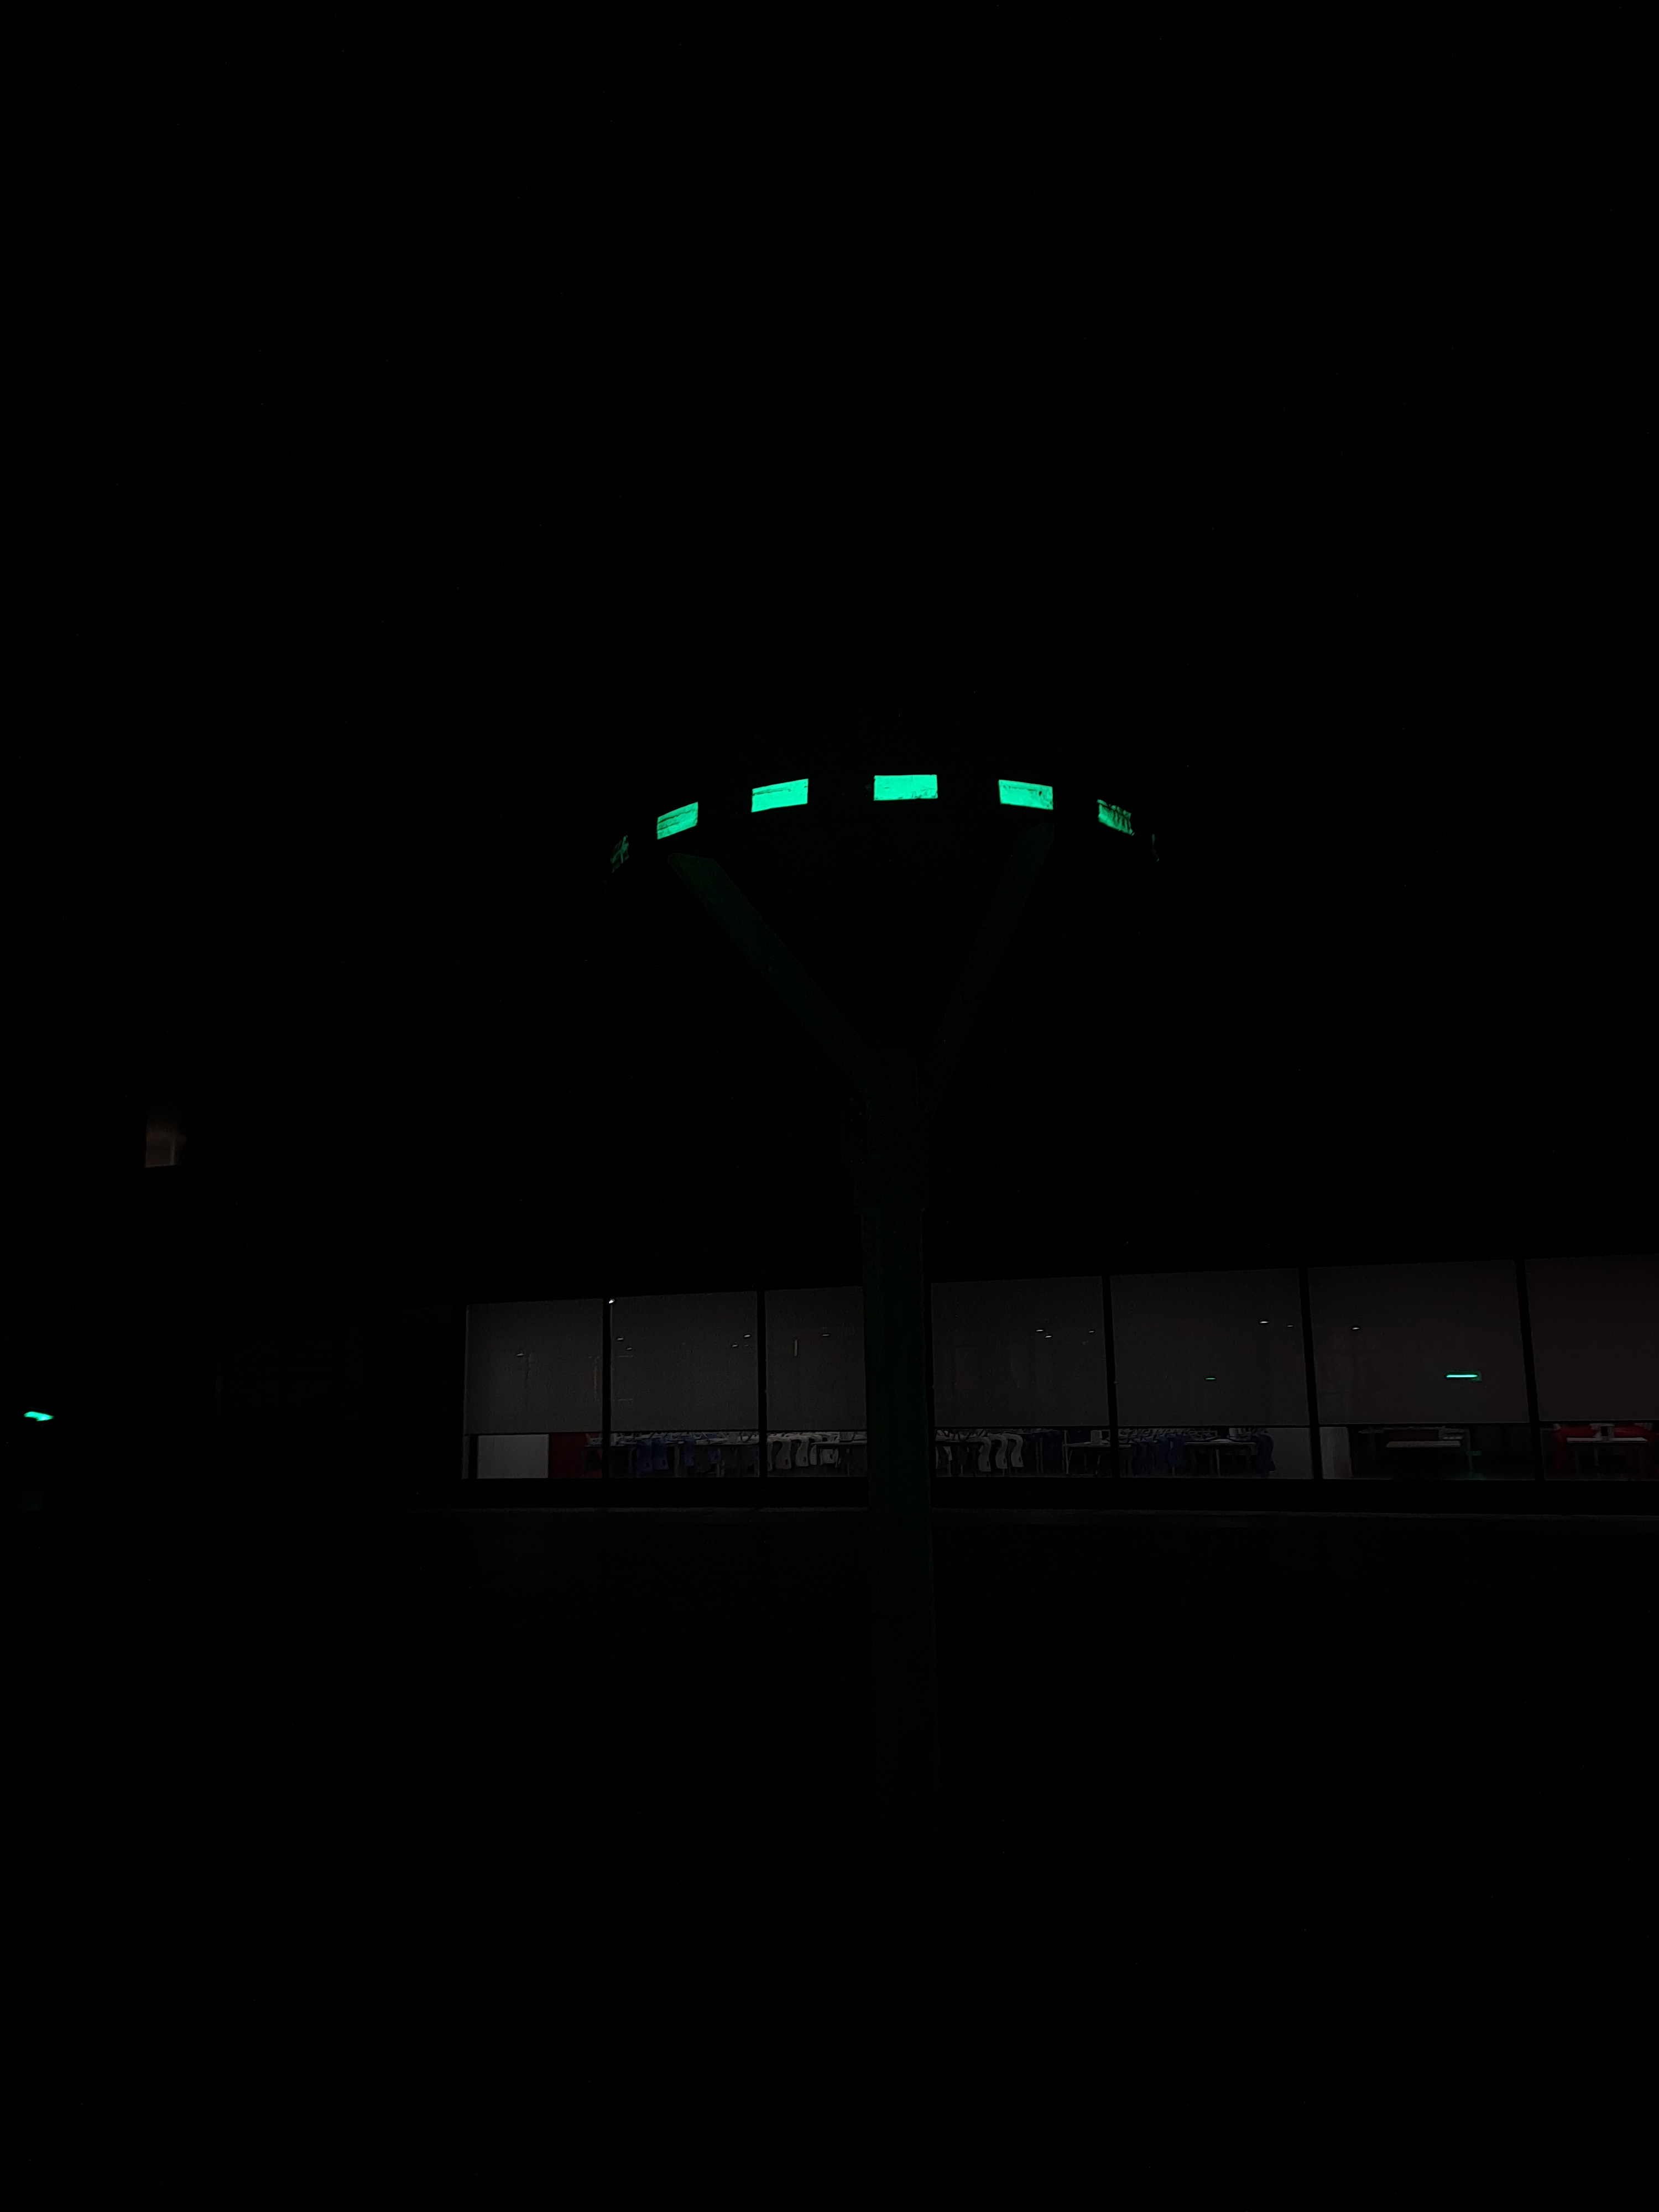hoop: (645, 765, 1140, 852)
